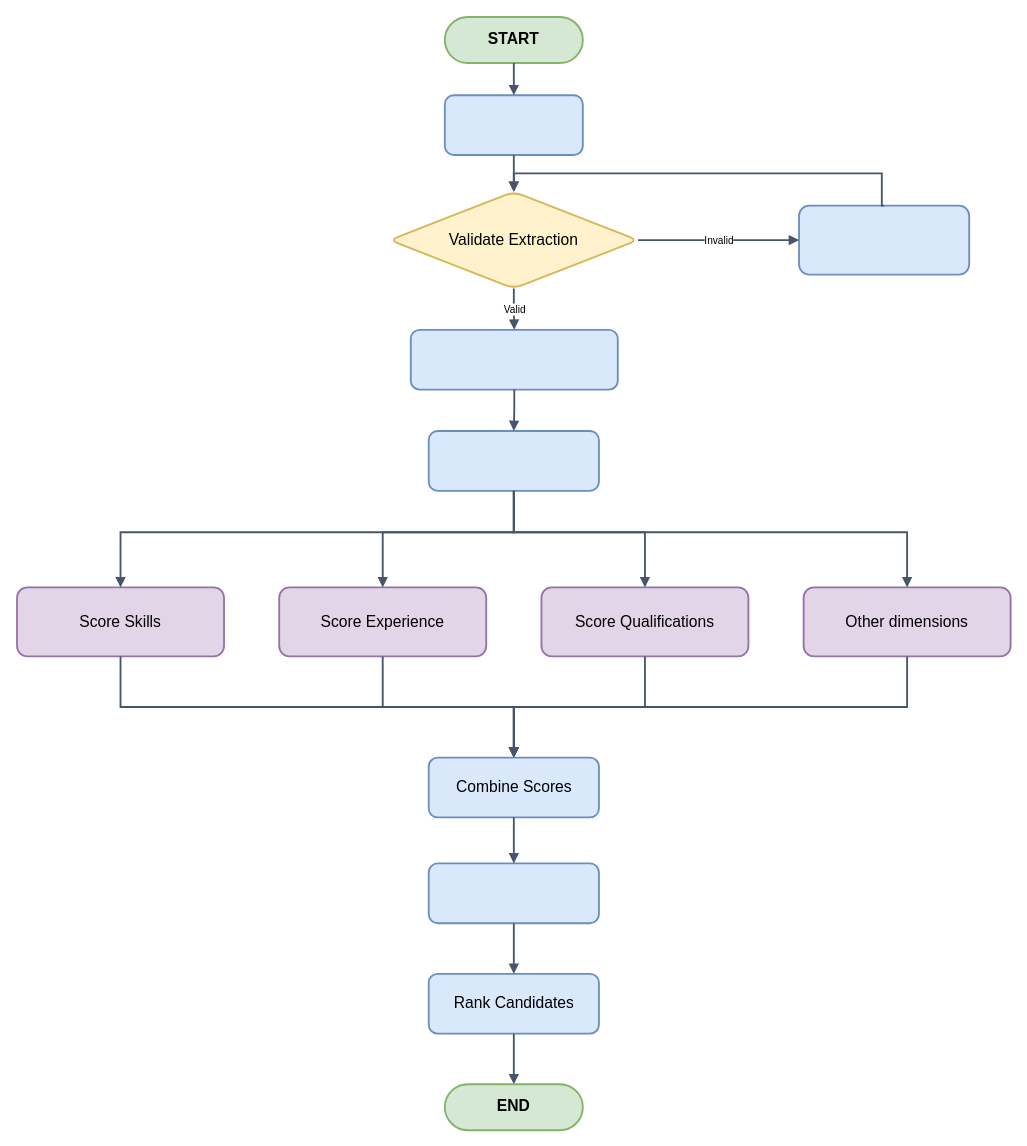
Some shapes in this 1027 by 1146 pixel diagram are drawn without their labels. Each missing label, with the centre of its shape:
"Extract Candidate Profile" goes at (x=513, y=359).
"Generate Justifications" goes at (x=513, y=893).
"Match Requirements" goes at (x=513, y=460).
"OCR / Retry Parsing" goes at (x=884, y=239).
"Parse CV" goes at (x=513, y=124).
